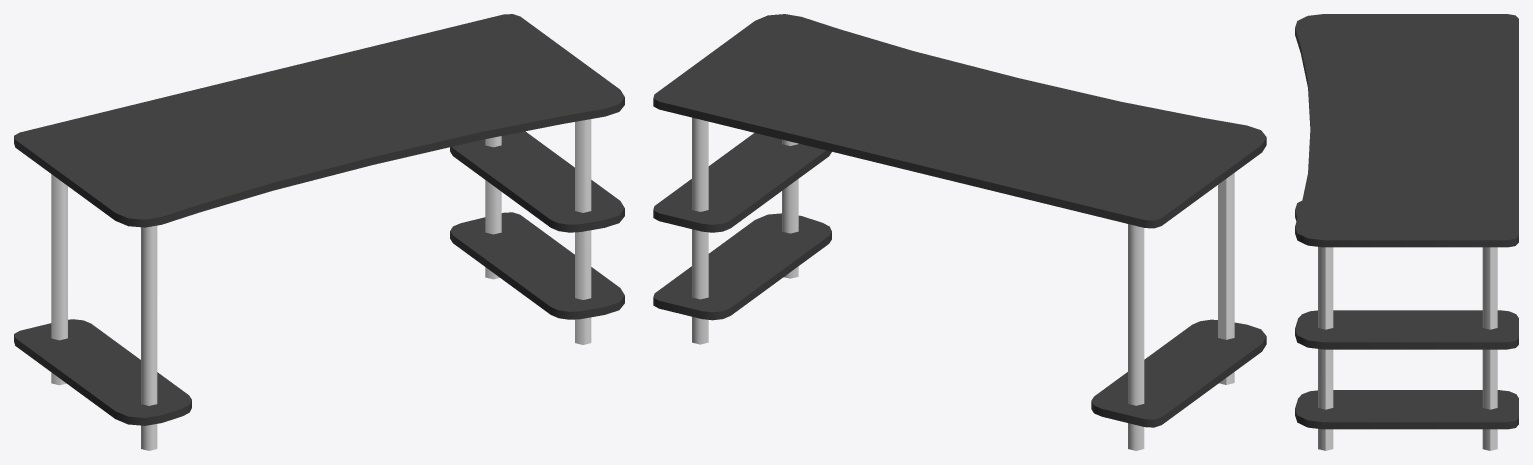
The model's file is office_table_008.glb.
3 renders of one model, left to right at view 1: azimuth 30°, elevation 25°; view 2: azimuth 150°, elevation 25°; view 3: azimuth 270°, elevation 25°, orthographic. The views are drawn at different scales.
Parts seen in each view (by area): view 1: office_table_008; view 2: office_table_008; view 3: office_table_008.
Part boxes in pixels (x1,y1,x2,y2): office_table_008: (14,14,624,450); office_table_008: (653,14,1266,450); office_table_008: (1295,14,1518,450).
Size of the model in its own units: 1.58 by 0.7293 by 0.663.
Materials: 1 (1 with a texture image).
